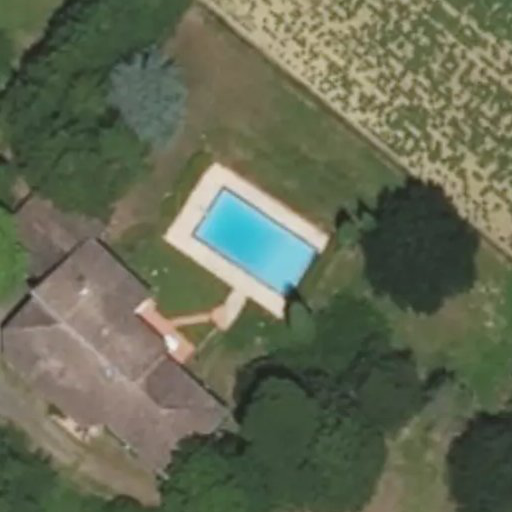pool: (191, 234, 320, 248)
